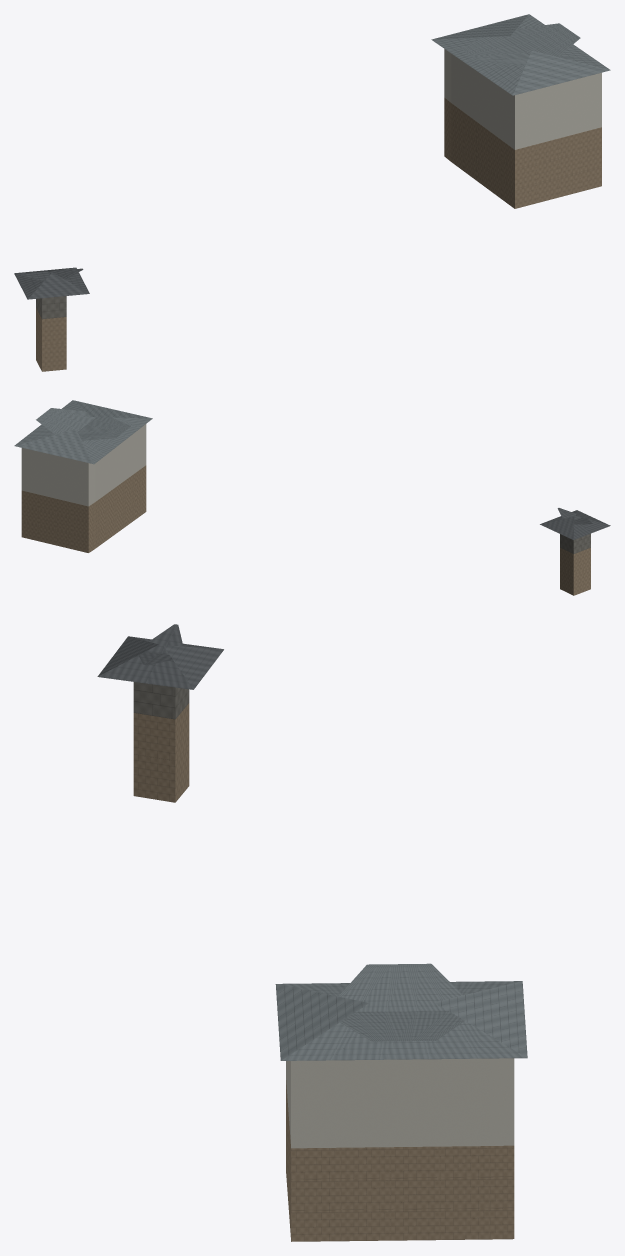
Rendered from bld_c23_44_387.gltf.
3 renders of one model, top to bottom at view 1: azimuth 30°, elevation 25°; view 2: azimuth 150°, elevation 25°; view 3: azimuth 270°, elevation 25°, orthographic. The views are drawn at different scales.
Parts seen in each view (by area): view 1: bld_c23_44_387; view 2: bld_c23_44_387; view 3: bld_c23_44_387.
Boxes of the visible parts, x1,y1,x2,y2 form: bld_c23_44_387: (14, 14, 610, 371); bld_c23_44_387: (14, 400, 610, 595); bld_c23_44_387: (97, 624, 527, 1241).
Bounding box in the file's own units: 57.07 × 11.45 × 21.27.
Materials: 5 (5 with a texture image).
